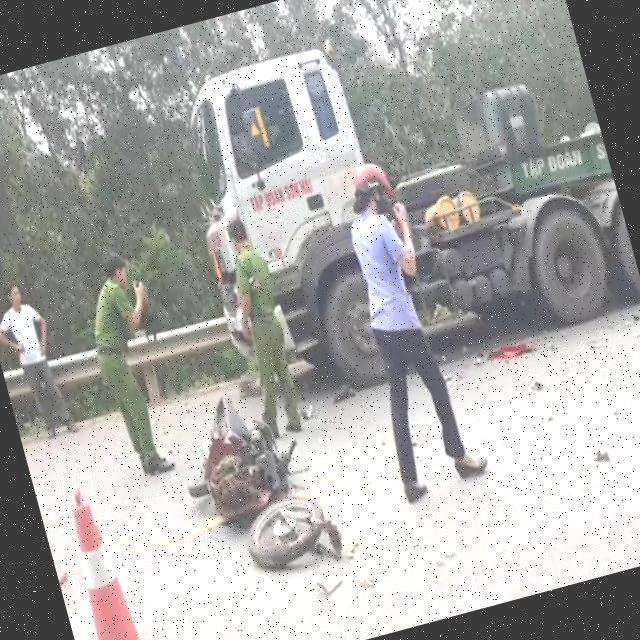accident: (163, 336, 345, 597)
